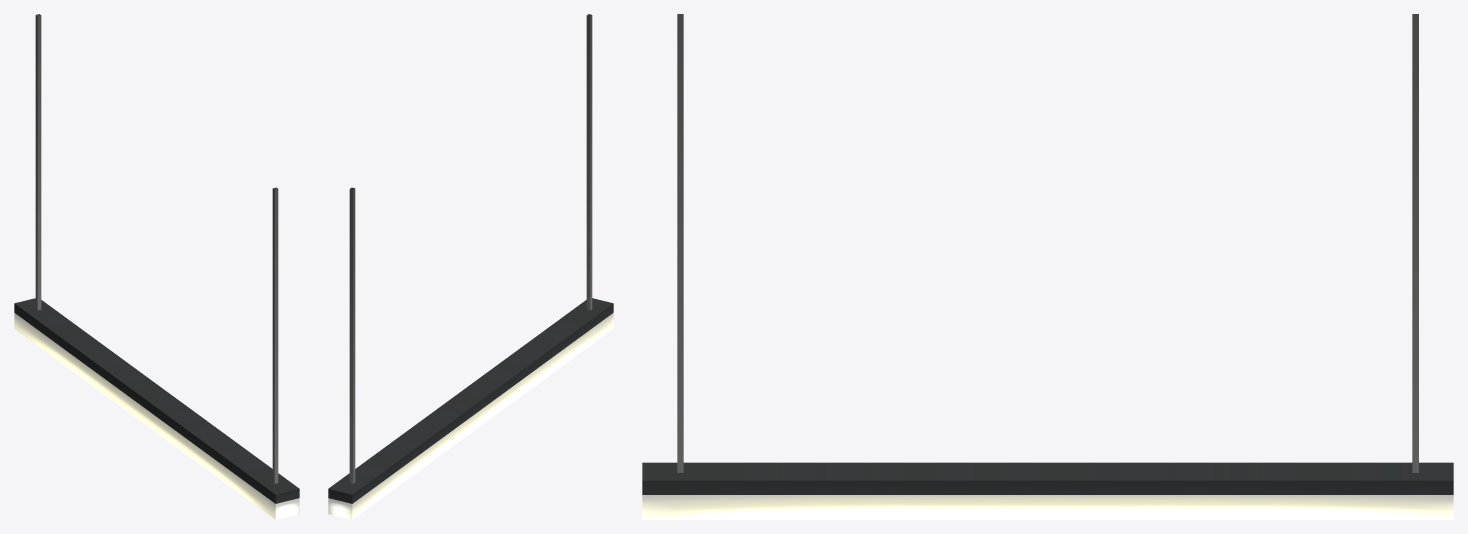
The model's file is Light_SuspendedStripLight_A.fbx.
The picture shows the model from 3 angles, left to right: view 1: azimuth 30°, elevation 25°; view 2: azimuth 150°, elevation 25°; view 3: azimuth 270°, elevation 25°; orthographic projection. The views are drawn at different scales.
Visible parts, largest first — view 1: Light_SuspendedStripLight_A; view 2: Light_SuspendedStripLight_A; view 3: Light_SuspendedStripLight_A.
Boxes of the visible parts, bbox=[...] form: Light_SuspendedStripLight_A: bbox=[14, 14, 299, 519]; Light_SuspendedStripLight_A: bbox=[328, 14, 613, 519]; Light_SuspendedStripLight_A: bbox=[642, 14, 1453, 519].
Bounding box in the file's own units: 8 × 101 × 150.
